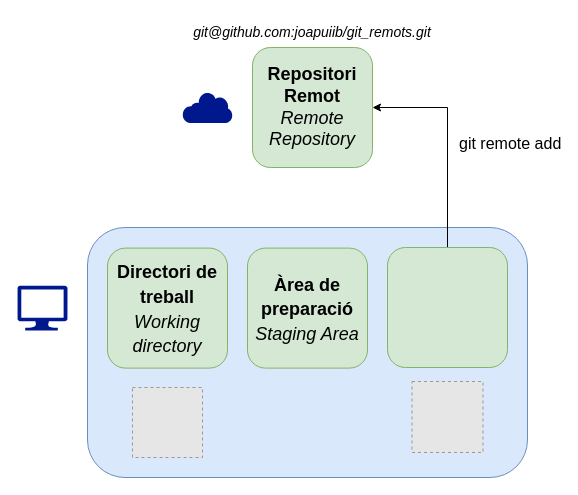
This 578x495 diagram has some shape labels left out. Grey dashed boxes stand in for pictures. The shapes that lost their labels are listed below. From the top down, each one's box as (x1, y1, x2, y2) in pixels, then its label:
(386, 246, 508, 368): Repositori local Local Repository
(86, 226, 528, 478): Local - Entorn de desenvolupament
